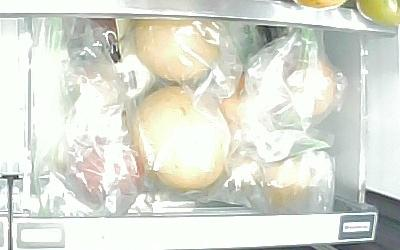pear_vinyl: (133, 86, 232, 191), (130, 16, 224, 84)
